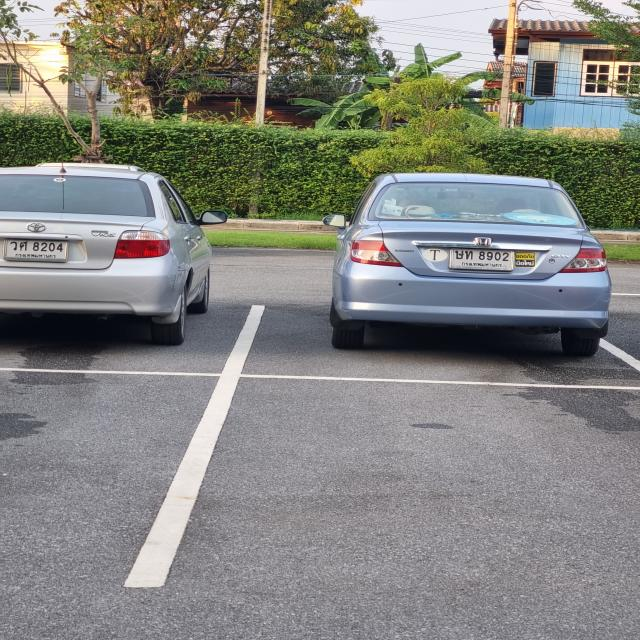license_plate: (3, 236, 72, 262), (452, 246, 514, 271)
